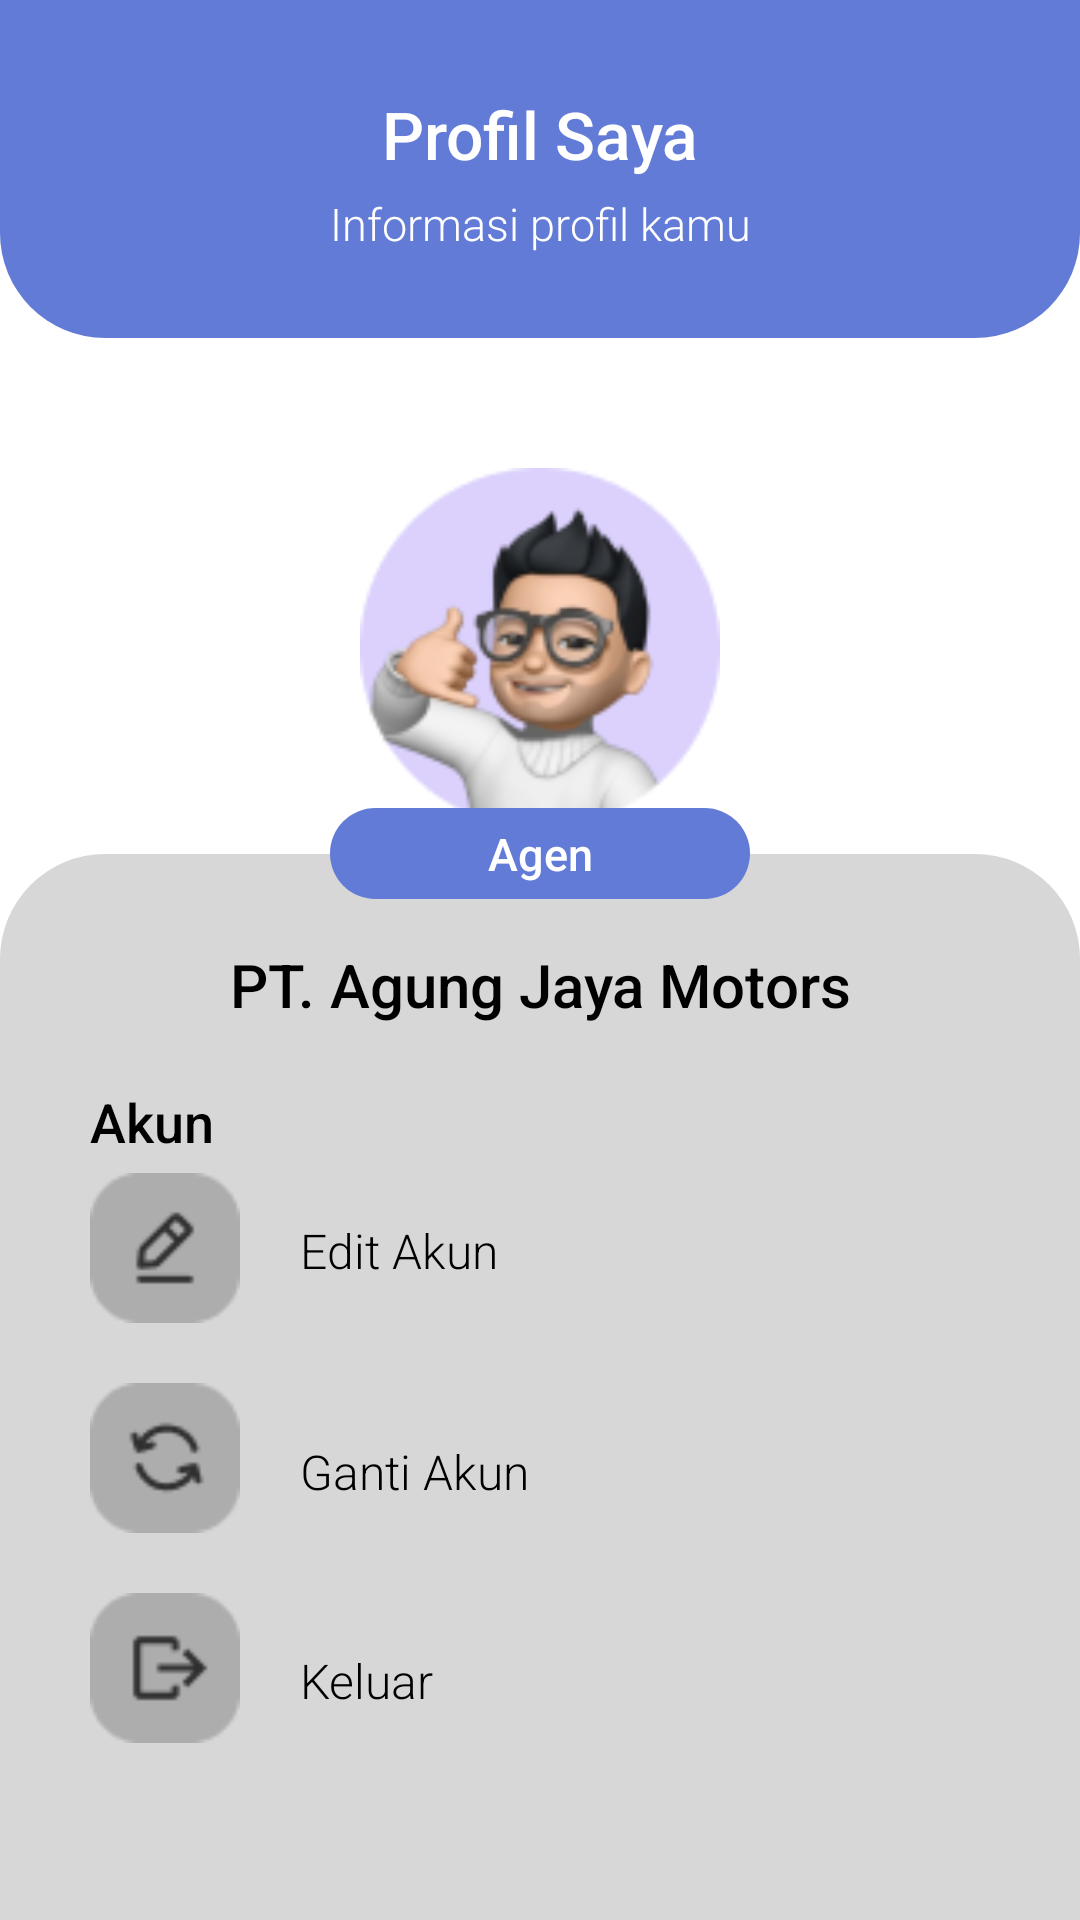

Icon click points for this 1080px x 1920px phone screenshot, format [x,y]:
memoji: [540,648]
